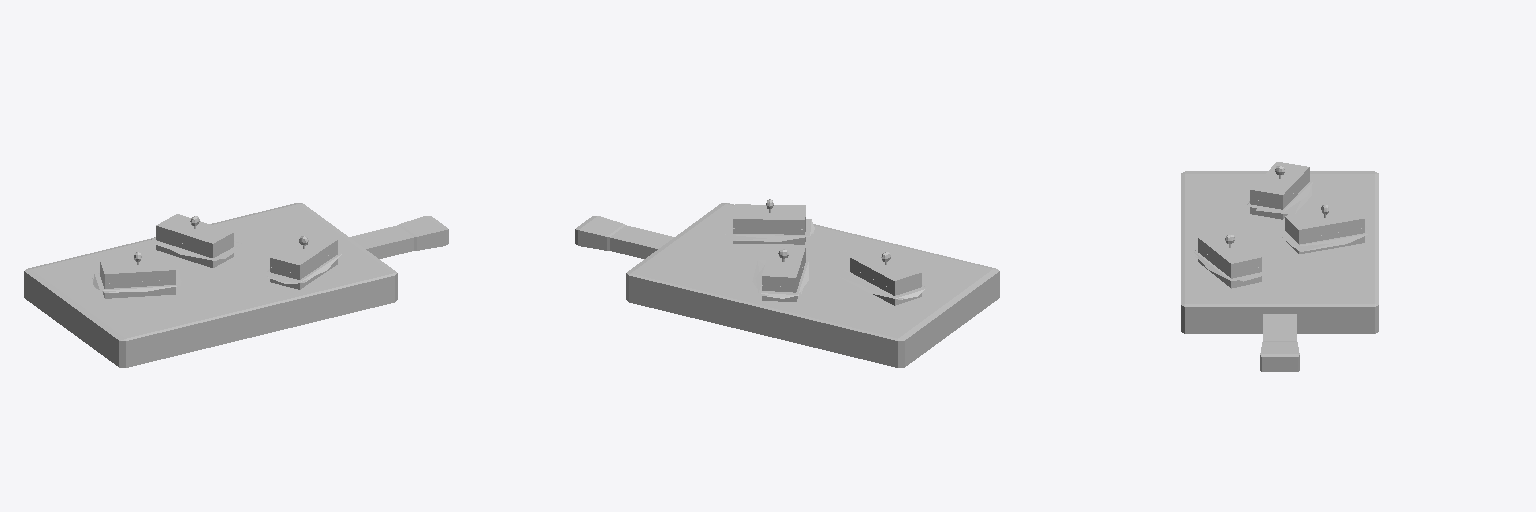
The model's file is Level 3.obj.
3 renders of one model, left to right at view 1: azimuth 30°, elevation 25°; view 2: azimuth 150°, elevation 25°; view 3: azimuth 270°, elevation 25°, orthographic.
Visible parts, largest first — view 1: Board.001, Cube, Cube.014, Cube.004; view 2: Board.001, Cube.004, Cube, Cube.014; view 3: Board.001, Cube.014, Cube.004, Cube.
Part boxes in pixels (left/top/right/bottom): Board.001: left=24, top=203, right=448, bottom=367; Cube: left=92, top=252, right=181, bottom=298; Cube.014: left=151, top=214, right=244, bottom=267; Cube.004: left=266, top=232, right=341, bottom=289; Board.001: left=575, top=203, right=999, bottom=367; Cube.004: left=725, top=199, right=814, bottom=244; Cube: left=838, top=249, right=926, bottom=305; Cube.014: left=752, top=246, right=808, bottom=301; Board.001: left=1181, top=171, right=1378, bottom=371; Cube.014: left=1280, top=205, right=1370, bottom=253; Cube.004: left=1193, top=230, right=1275, bottom=288; Cube: left=1247, top=162, right=1313, bottom=219.
Size of the model in its own units: 24.27 by 4.12 by 11.3.